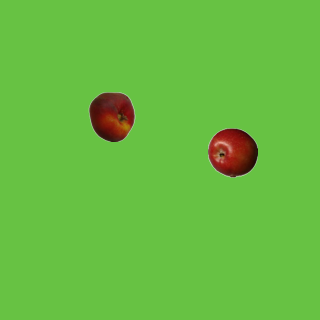Apple Braeburn: (207, 127, 257, 177)
Nectarine Flat: (86, 91, 136, 141)
